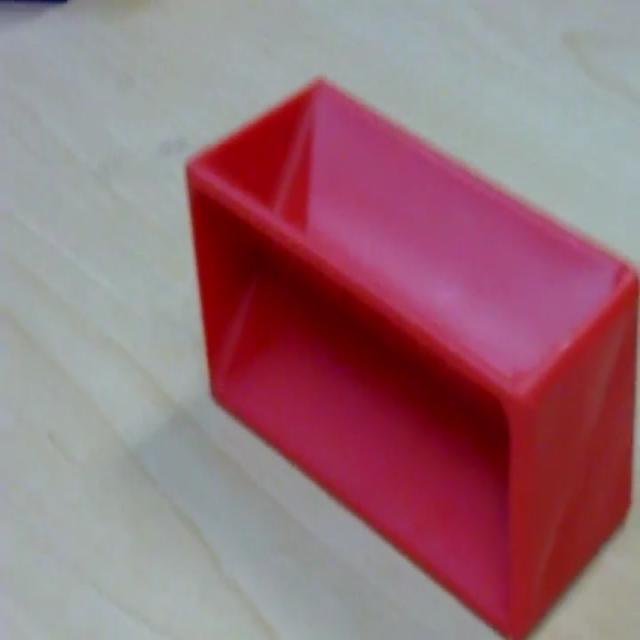red_block: (183, 73, 638, 636)
